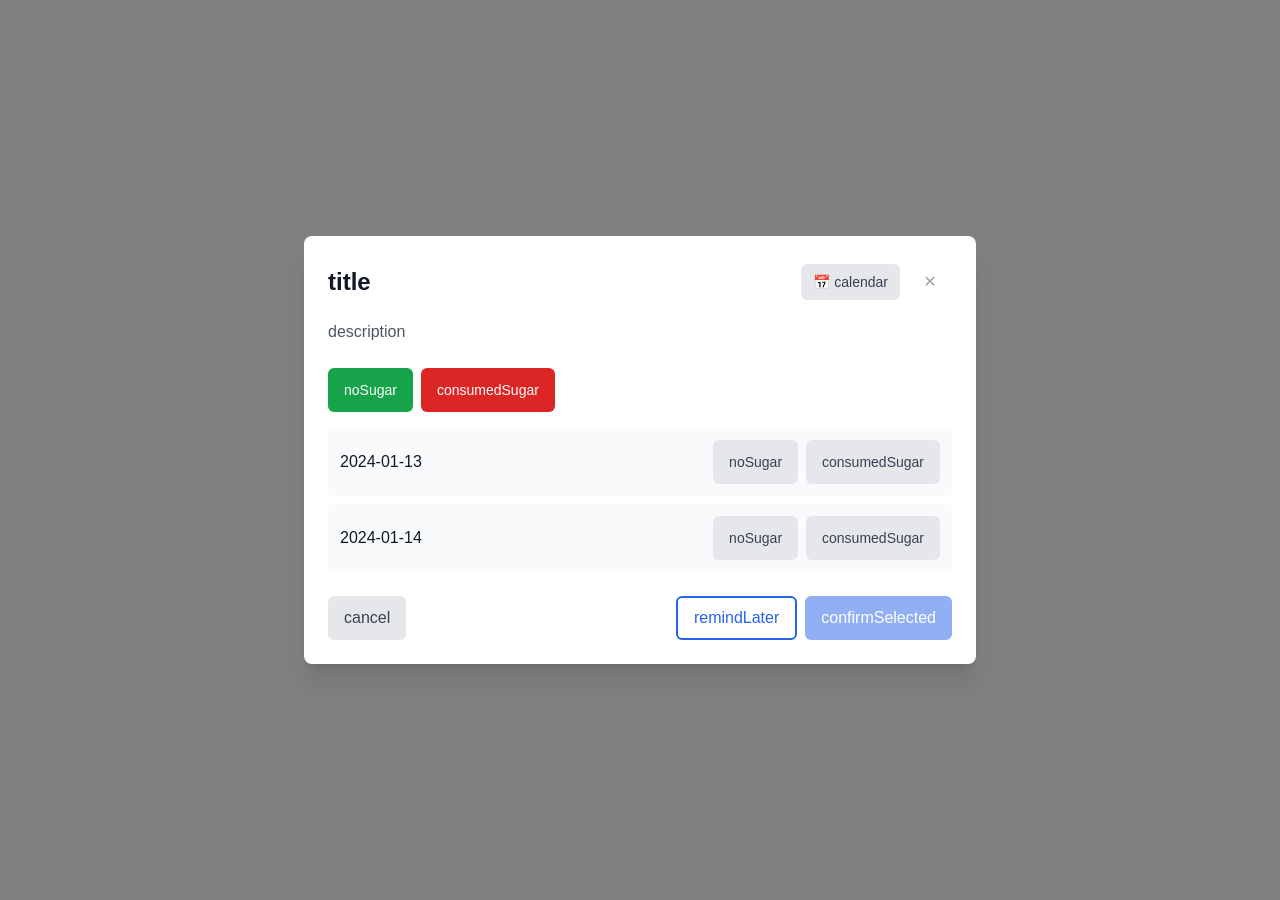
Test: PendingDaysModal › should enable confirm button when at least one day is selected
This screenshot has width=1280, height=900.
Expected: the button "confirmSelected" is disabled, x1=805 y1=596 x2=952 y2=640
Click the button "noSugar" in the row of "2024-01-13".
click(756, 462)  # box x1=713 y1=440 x2=798 y2=484
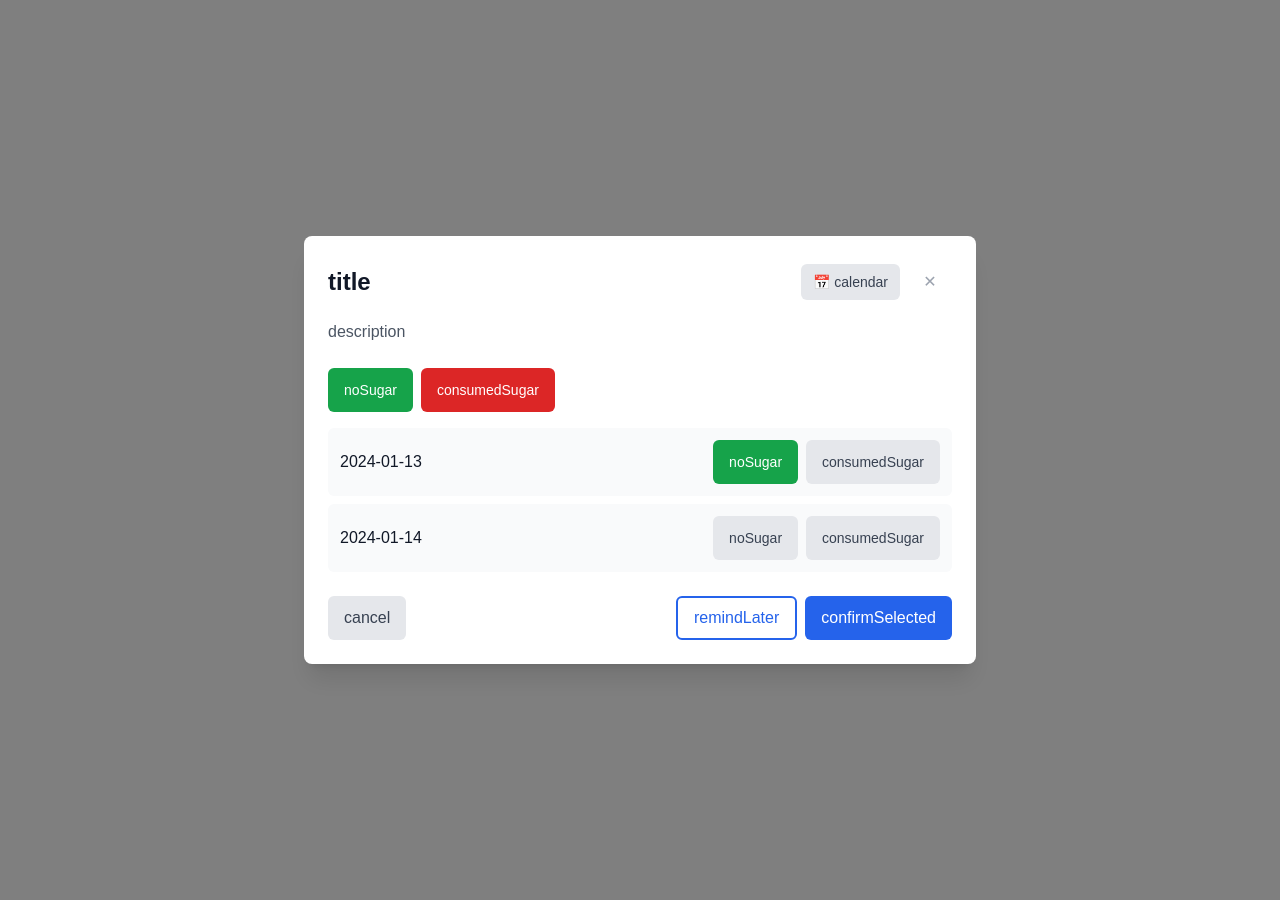
Now the button "confirmSelected" is enabled, box x1=805 y1=596 x2=952 y2=640
